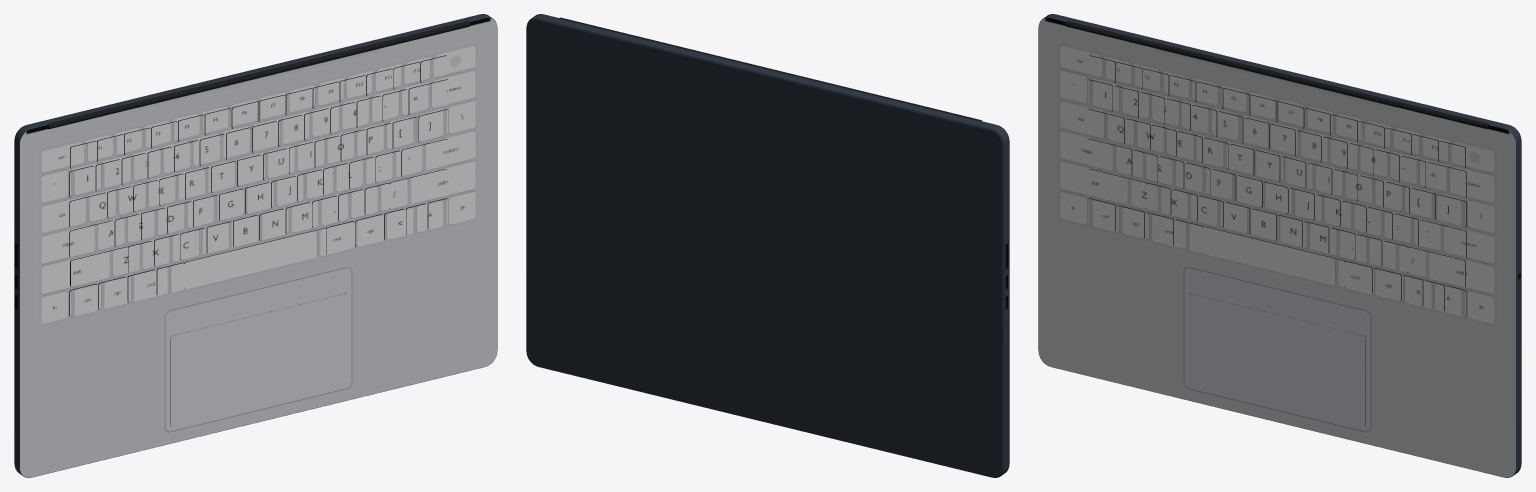
File: body.obj
3 renders of one model, left to right at view 1: azimuth 30°, elevation 25°; view 2: azimuth 150°, elevation 25°; view 3: azimuth 330°, elevation 25°, orthographic.
Parts seen in each view (by area): view 1: deck, keys.001, keys, base.001, hinge; view 2: base, base.001, hinge; view 3: deck, keys.001, keys, base.001, hinge.
Boxes of the visible parts, box(x1,y1,x2,y2) form: deck: box(20, 18, 497, 477); keys.001: box(70, 56, 447, 316); keys: box(69, 55, 447, 316); base.001: box(14, 14, 497, 477); hinge: box(47, 21, 470, 129); base: box(526, 18, 1003, 477); base.001: box(527, 14, 1009, 477); hinge: box(559, 17, 981, 121); deck: box(1038, 18, 1515, 477); keys.001: box(1088, 56, 1466, 316); keys: box(1088, 55, 1466, 316); base.001: box(1038, 14, 1521, 477); hinge: box(1065, 21, 1488, 129).
Size of the model in its own units: 340 by 238 by 8.95.
